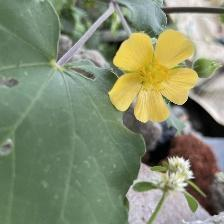indian mallow: (108, 28, 202, 128)
